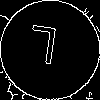L: (25, 25, 59, 74)
